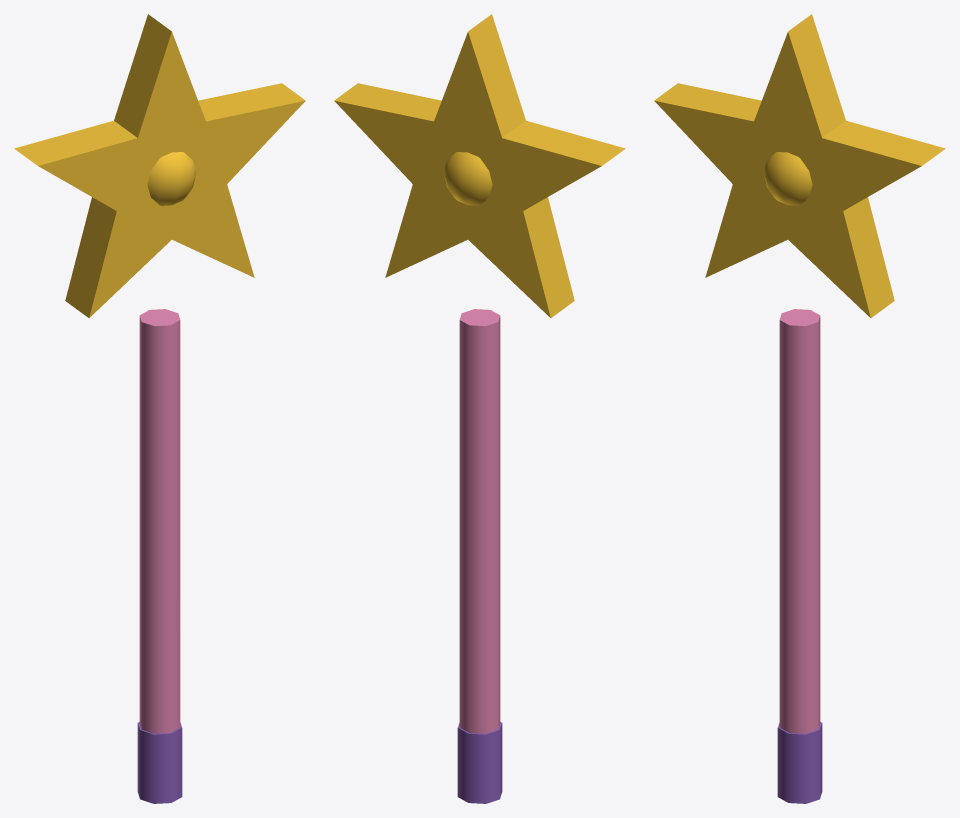
File: star_wand.glb
3 views of the same model, side by side, from view 1: azimuth 30°, elevation 25°; view 2: azimuth 150°, elevation 25°; view 3: azimuth 330°, elevation 25° (orthographic).
Visible parts, largest first — view 1: root; view 2: root; view 3: root.
Part boxes in pixels (bbox=[...]): root: bbox=[14, 14, 305, 803]; root: bbox=[334, 14, 625, 803]; root: bbox=[654, 14, 945, 803].
Bounding box in the file's own units: 0.3234 × 0.89 × 0.08.
